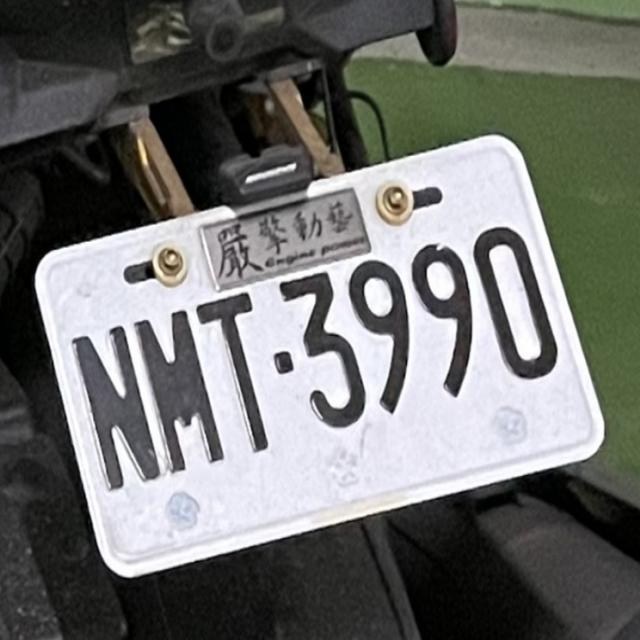license-plate: (29, 129, 606, 576)
